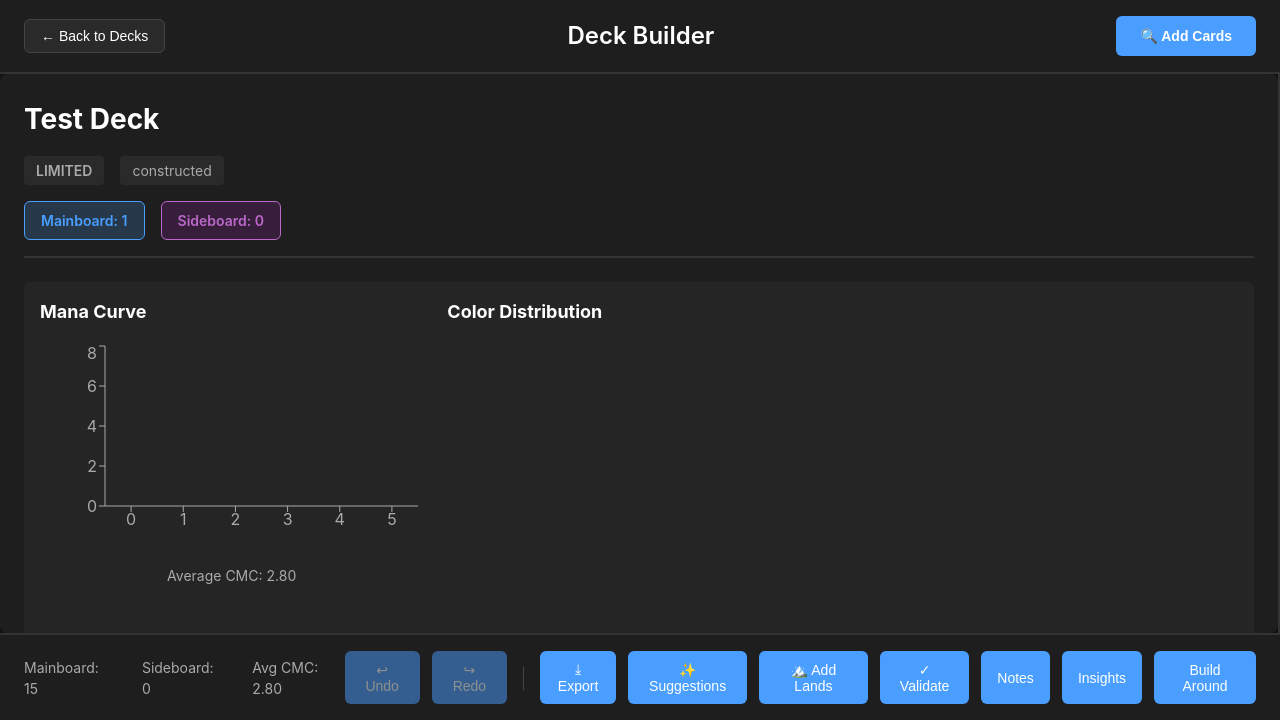
Test: DeckBuilder Component - Export and Validate › Build Around Functionality › should open Build Around modal when button is clicked
Expected: the heading "Test Deck" is shown, [24,98,159,140]
# Click Build Around button
What coordinates should you click on to do the following:
click the button "Build Around"
I would click on:
 (1205, 678)
Its box is [1154,651,1256,704].
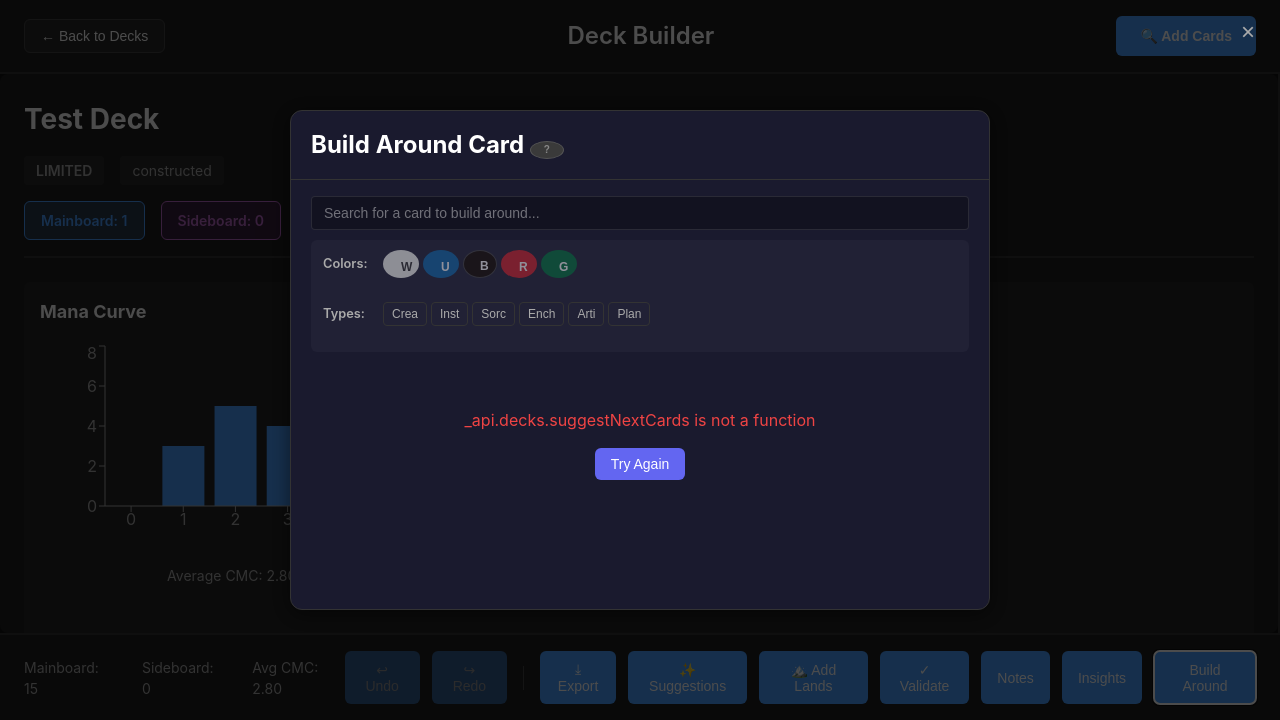
Expected: the heading "Build Around Card ?" is shown, [311,127,564,163]
